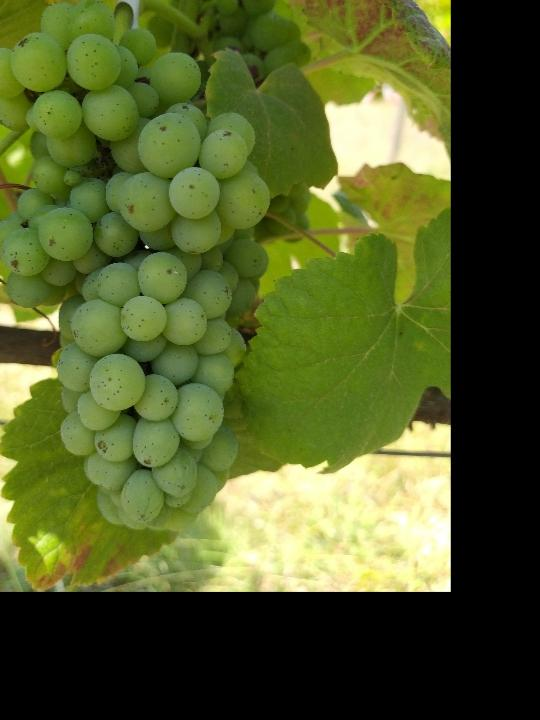grape: (0, 0, 279, 534)
